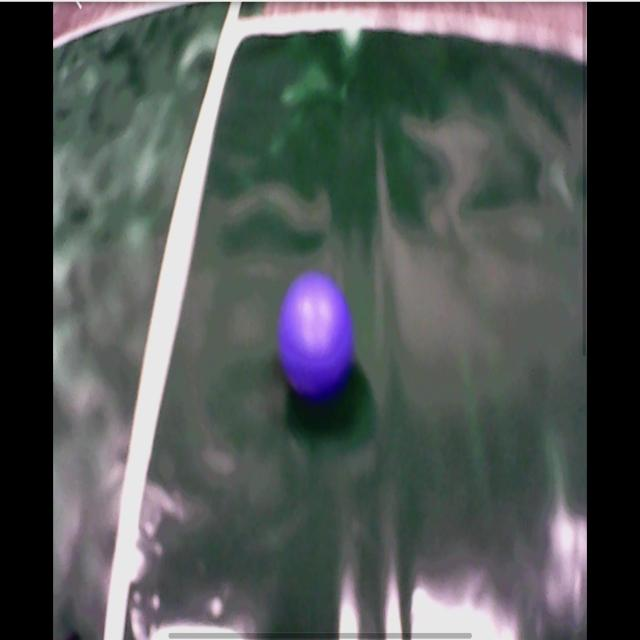ball: (279, 275, 353, 398)
